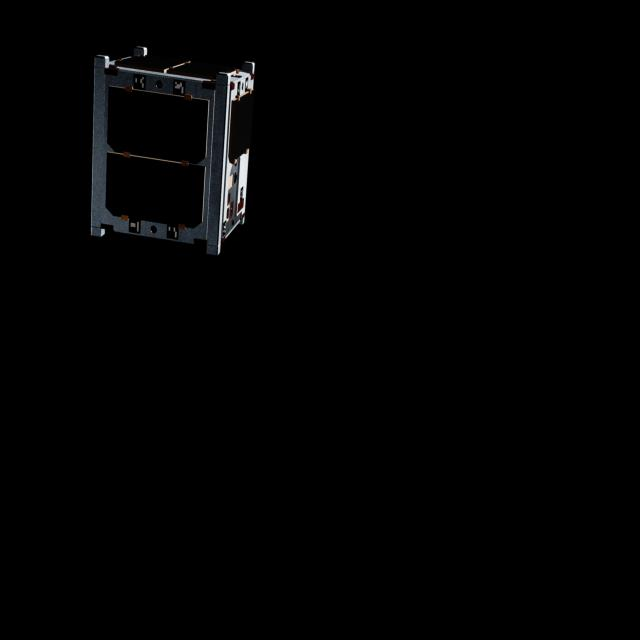medium_debris: (86, 36, 264, 256)
